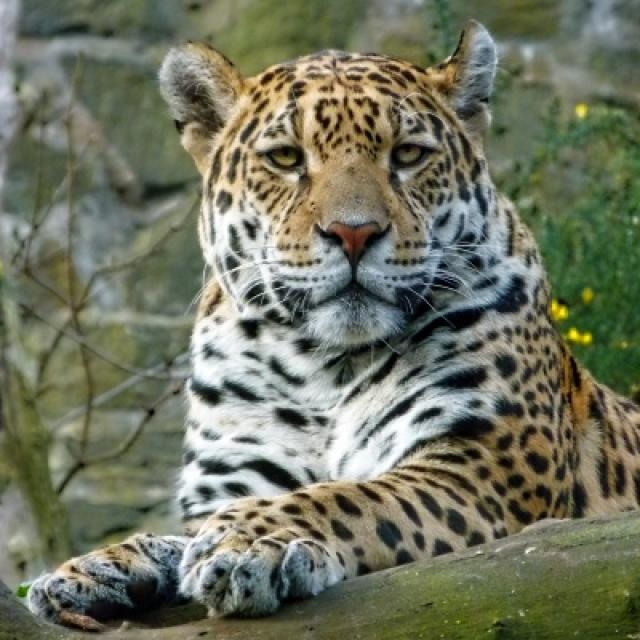Jaguar: (27, 19, 638, 634)
